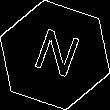N_S: (27, 25, 83, 85)
